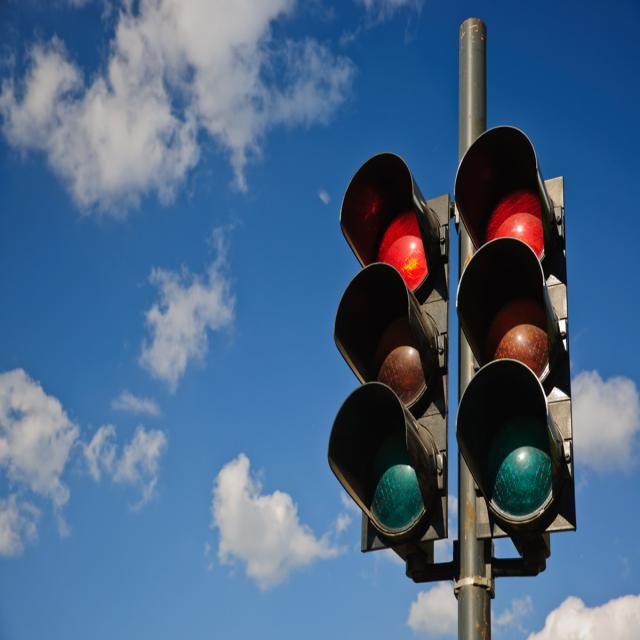red: (451, 150, 559, 262), (359, 164, 428, 274)
